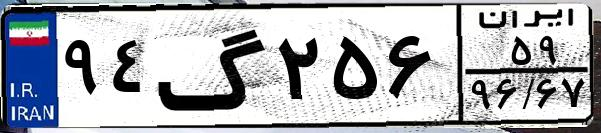2: (270, 28, 330, 110)
4: (110, 28, 156, 98)
5: (330, 28, 385, 110), (508, 27, 537, 80)
6: (385, 28, 445, 110), (495, 70, 520, 125), (535, 70, 560, 125)
7: (560, 70, 590, 125)
9: (57, 26, 110, 100), (537, 27, 568, 80), (470, 70, 495, 125)
گ: (156, 12, 270, 120)
